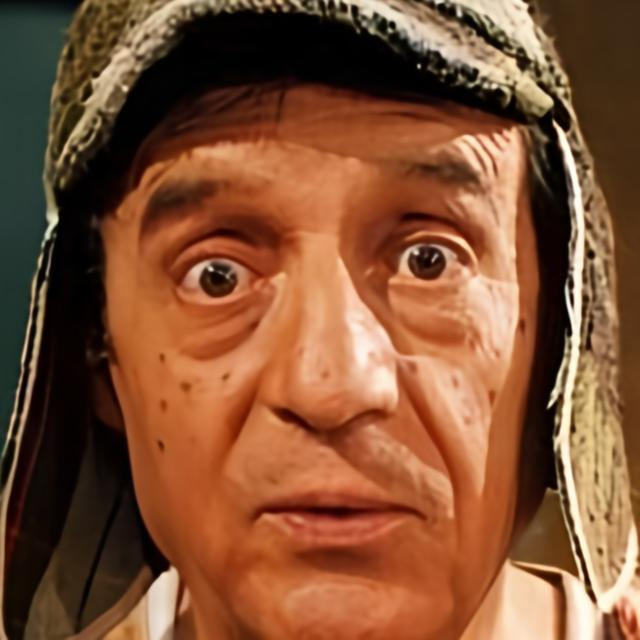surprise: (106, 81, 541, 640)
